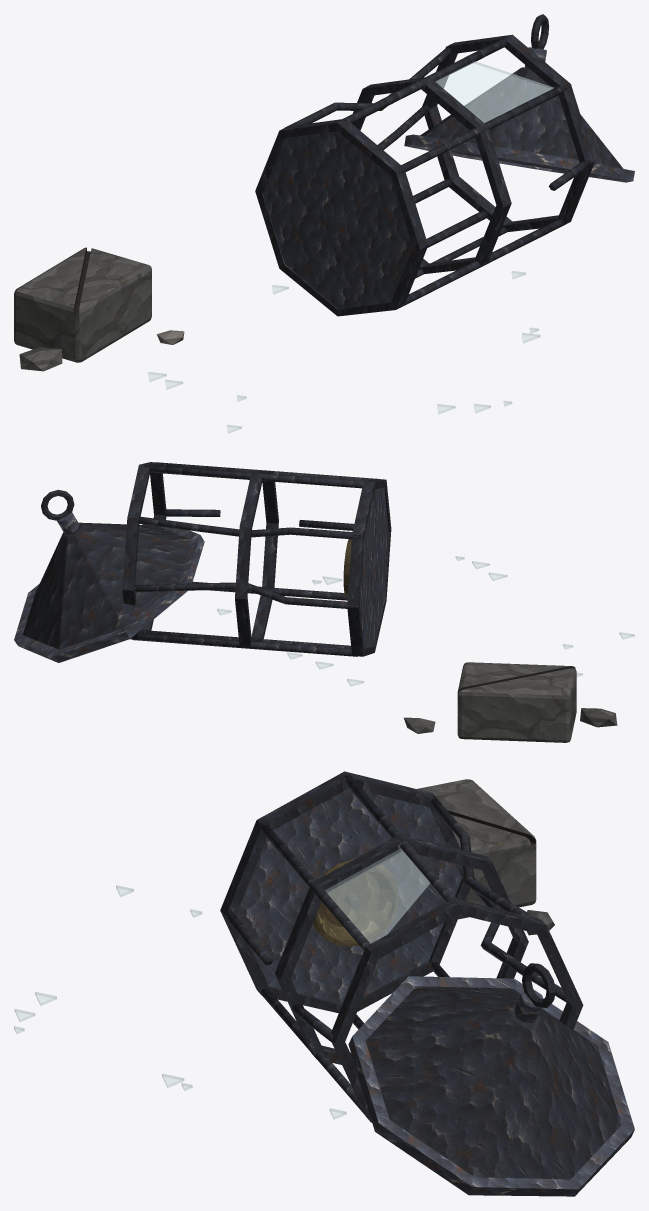
File: rs_lantern_cage_fallen.glb
3 renders of one model, top to bottom at view 1: azimuth 30°, elevation 25°; view 2: azimuth 150°, elevation 25°; view 3: azimuth 270°, elevation 25°, orthographic. The views are drawn at different scales.
Visible parts, largest first — view 1: model; view 2: model; view 3: model.
Part boxes in pixels (left/top/right/bottom): model: left=14, top=14, right=634, bottom=433; model: left=14, top=462, right=634, bottom=742; model: left=14, top=771, right=634, bottom=1196.
Bounding box in the file's own units: 2.84 × 0.826 × 1.95.
Materials: 22 (5 with a texture image).
